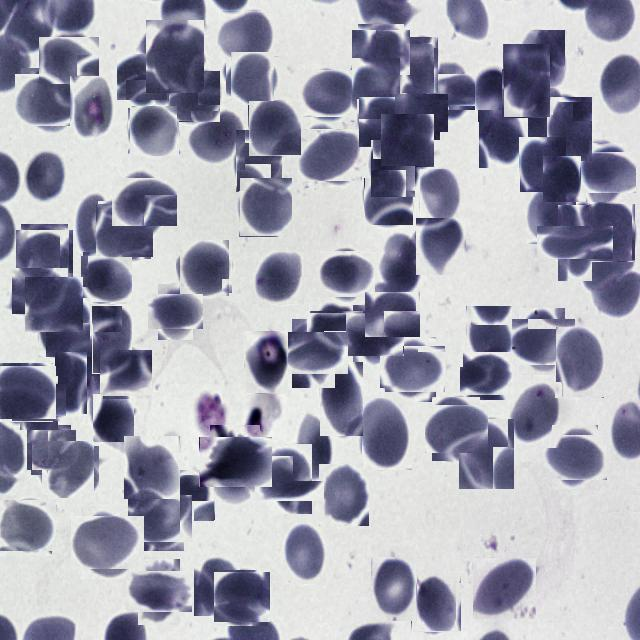red blood cell: (146, 20, 204, 93), (76, 511, 140, 574), (458, 419, 514, 490), (472, 558, 536, 620), (204, 430, 266, 492), (362, 398, 412, 470), (508, 382, 562, 448), (124, 436, 180, 499), (18, 71, 77, 130), (555, 327, 604, 398), (503, 44, 550, 118), (300, 126, 359, 184), (260, 450, 318, 508), (116, 173, 172, 230), (25, 277, 83, 332), (191, 111, 245, 170), (320, 362, 363, 436), (384, 342, 440, 398), (286, 326, 342, 382), (428, 401, 484, 457), (132, 491, 188, 547), (96, 202, 152, 258), (239, 178, 292, 237), (38, 298, 90, 358), (319, 464, 369, 526), (514, 314, 570, 369), (0, 498, 54, 554), (0, 365, 54, 421), (546, 97, 592, 162), (548, 430, 602, 485), (299, 66, 354, 120), (41, 34, 96, 88), (248, 100, 301, 156), (411, 573, 461, 632), (372, 557, 418, 621), (132, 565, 186, 619), (216, 570, 270, 624), (414, 220, 468, 274), (548, 216, 602, 270), (480, 110, 530, 168), (380, 114, 434, 167), (379, 231, 423, 296), (194, 554, 240, 616), (466, 306, 512, 368), (236, 130, 282, 192), (526, 187, 576, 244), (244, 331, 288, 394), (293, 412, 333, 481), (178, 241, 230, 294), (282, 523, 326, 585), (70, 76, 114, 138), (588, 204, 635, 262), (92, 306, 132, 374), (319, 248, 371, 300), (18, 227, 70, 279), (252, 252, 304, 304), (355, 26, 407, 78), (44, 444, 96, 496), (352, 58, 400, 113), (370, 140, 415, 198), (169, 71, 220, 122), (349, 309, 400, 360), (218, 11, 273, 58), (12, 268, 68, 314), (367, 289, 418, 339), (520, 137, 566, 192), (164, 470, 214, 520), (82, 253, 132, 303), (582, 148, 632, 198), (102, 348, 152, 398), (522, 30, 565, 88), (129, 107, 178, 156), (358, 98, 407, 147), (76, 194, 114, 256), (311, 306, 359, 355), (364, 178, 413, 226), (462, 350, 510, 398), (228, 54, 276, 102), (118, 53, 166, 101), (24, 148, 66, 202), (476, 69, 518, 122), (399, 37, 438, 94), (420, 169, 460, 222), (431, 68, 477, 114), (152, 288, 198, 334), (16, 380, 62, 426), (398, 90, 444, 136), (28, 428, 74, 472), (55, 352, 87, 414), (93, 394, 134, 442), (544, 156, 582, 202)
